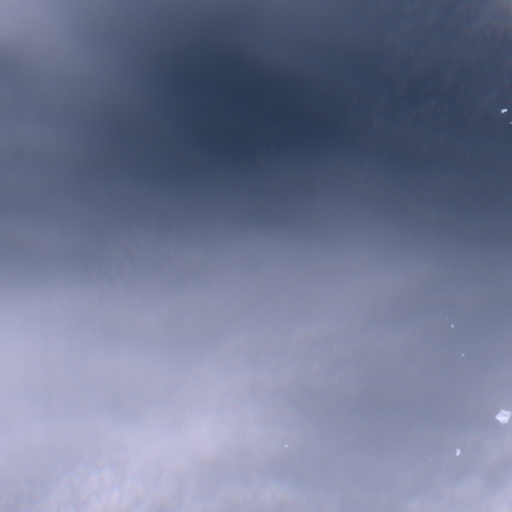Iceberg: (494, 410, 511, 424), (456, 448, 460, 455), (501, 109, 507, 112), (451, 324, 453, 327), (285, 444, 287, 446), (462, 354, 464, 355), (510, 122, 511, 123)
